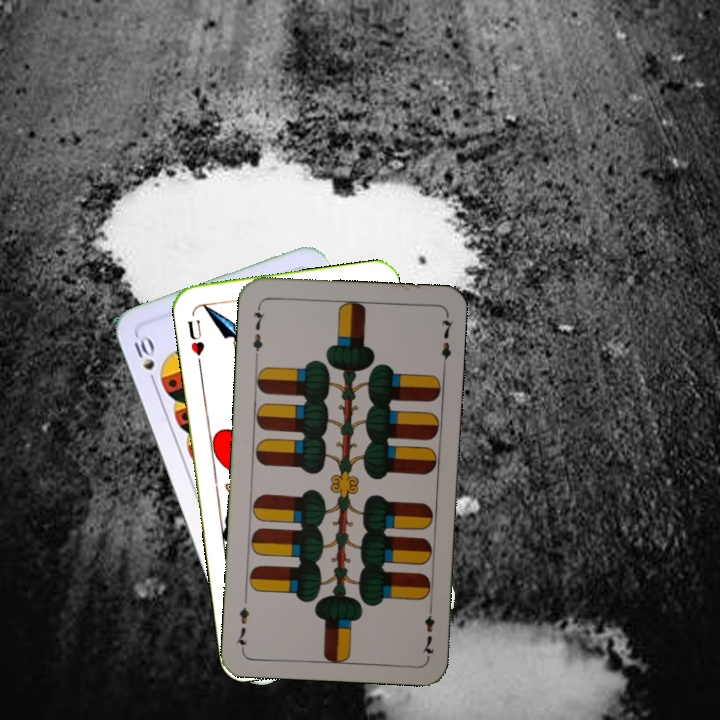E7: (418, 600, 437, 659), (248, 301, 266, 361)
HU: (183, 316, 207, 358)
S10: (128, 331, 159, 389)
